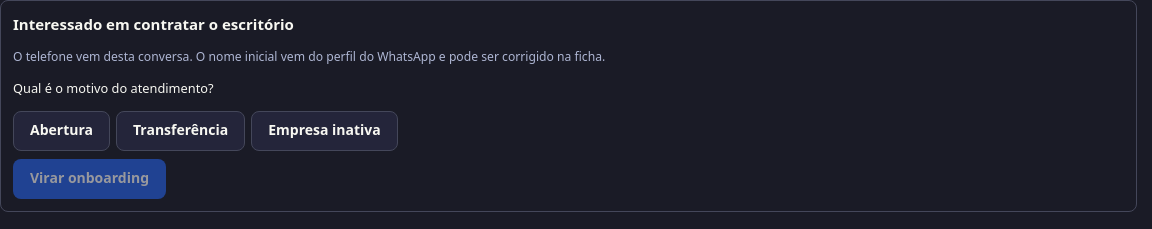
Test: criação sem confirmação não permite repetir POST ({})
Step 1. Click the button "Abertura" → (62, 131), box [13, 111, 110, 151]
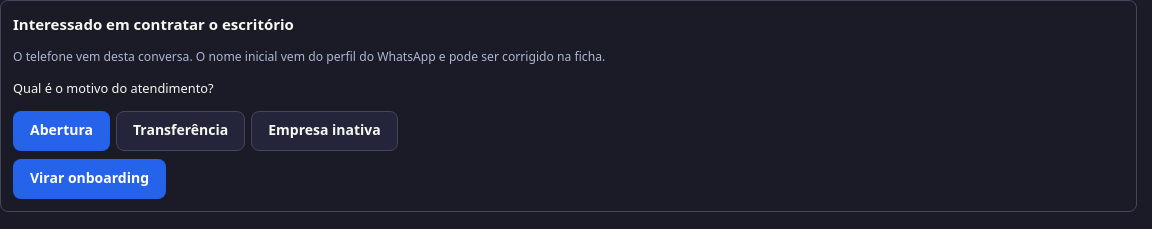
Step 2. Click the button "Virar onboarding" → (90, 179), box [13, 159, 166, 199]
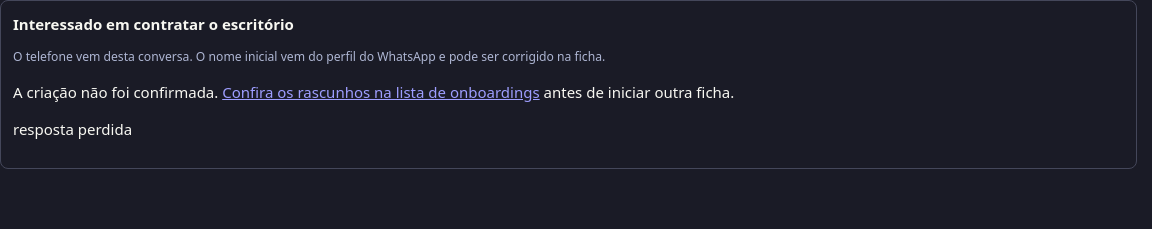
expect the link "Confira os rascunhos na lista de onboardings" is shown: met, box [222, 82, 540, 102]
expect the button "Virar onboarding" is gone: met
